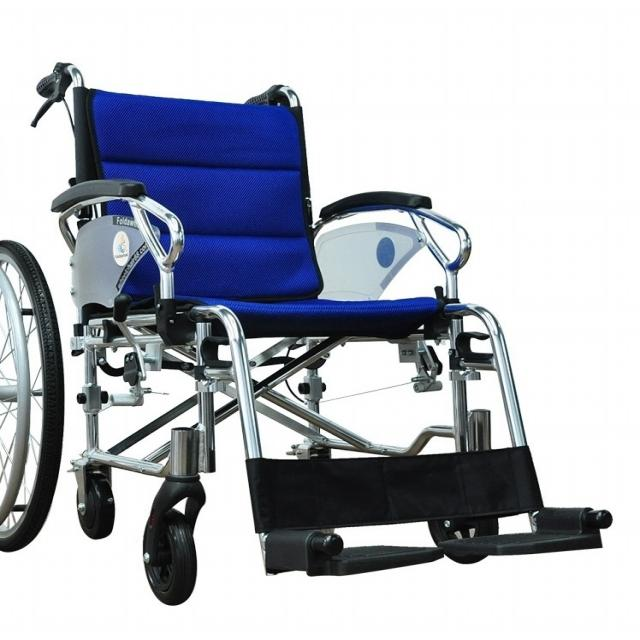wheelchair: (3, 48, 635, 610)
